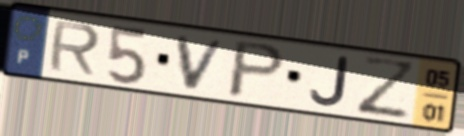5: (103, 21, 153, 87)
J: (307, 54, 351, 109)
P: (224, 38, 289, 100)
R: (45, 18, 103, 78)
V: (174, 33, 229, 93)
Z: (354, 53, 421, 121)
